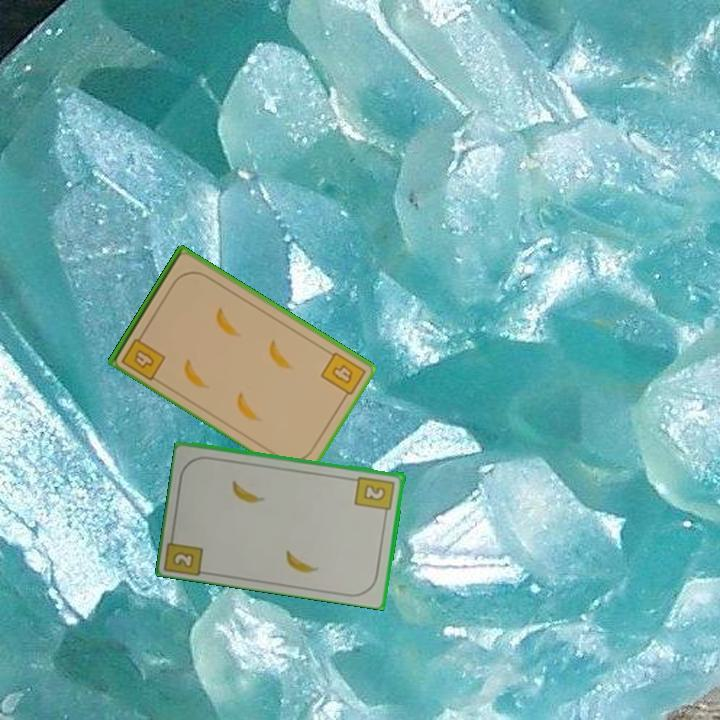2b: (352, 472, 397, 519), (163, 528, 206, 577)
4b: (317, 348, 368, 403), (118, 327, 168, 383)
